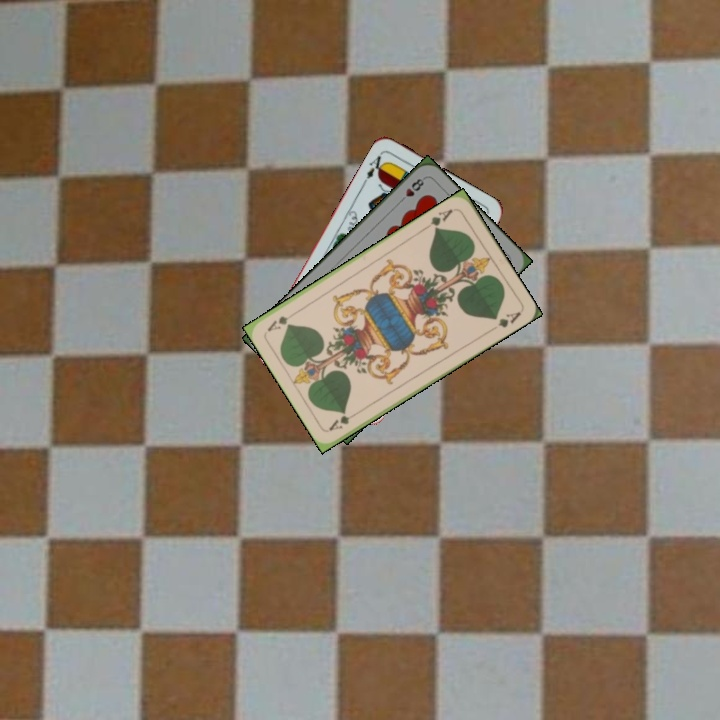EA: (359, 151, 388, 186)
GA: (421, 205, 458, 233), (325, 407, 362, 433)
H8: (395, 174, 427, 206)
